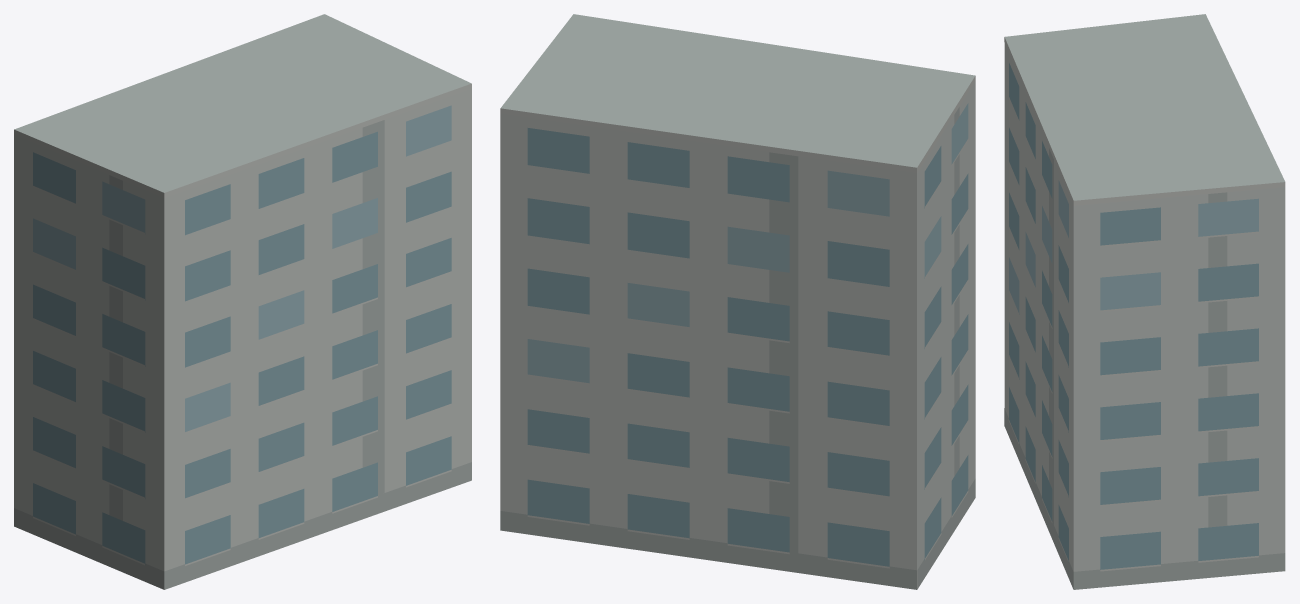
Rendered from survey-upis-32830712.glb.
3 renders of one model, left to right at view 1: azimuth 30°, elevation 25°; view 2: azimuth 150°, elevation 25°; view 3: azimuth 270°, elevation 25°, orthographic. The views are drawn at different scales.
Parts seen in each view (by area): view 1: survey-upis-32830712.tmp; view 2: survey-upis-32830712.tmp; view 3: survey-upis-32830712.tmp.
Part boxes in pixels (x1,y1,x2,y2): survey-upis-32830712.tmp: [14, 14, 471, 589]; survey-upis-32830712.tmp: [500, 14, 975, 589]; survey-upis-32830712.tmp: [1004, 14, 1285, 589].
Size of the model in its own units: 18.85 by 18.3 by 11.98.
